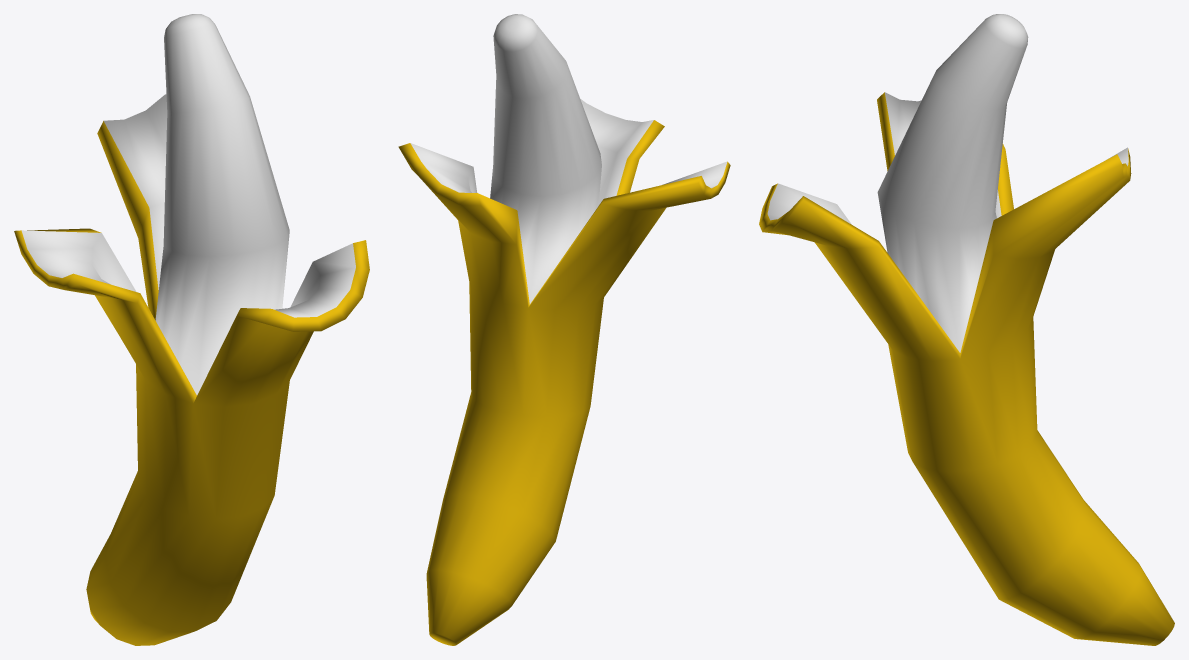
The model's file is BananaOpened.fbx.
3 views of the same model, side by side, from view 1: azimuth 30°, elevation 25°; view 2: azimuth 150°, elevation 25°; view 3: azimuth 270°, elevation 25° (orthographic). The views are drawn at different scales.
Visible parts, largest first — view 1: Cylinder.002; view 2: Cylinder.002; view 3: Cylinder.002.
Boxes of the visible parts, <box> form: Cylinder.002: <box>14,14,369,645</box>; Cylinder.002: <box>398,14,730,645</box>; Cylinder.002: <box>759,14,1174,645</box>.
Size of the model in its own units: 193 by 462 by 277.
